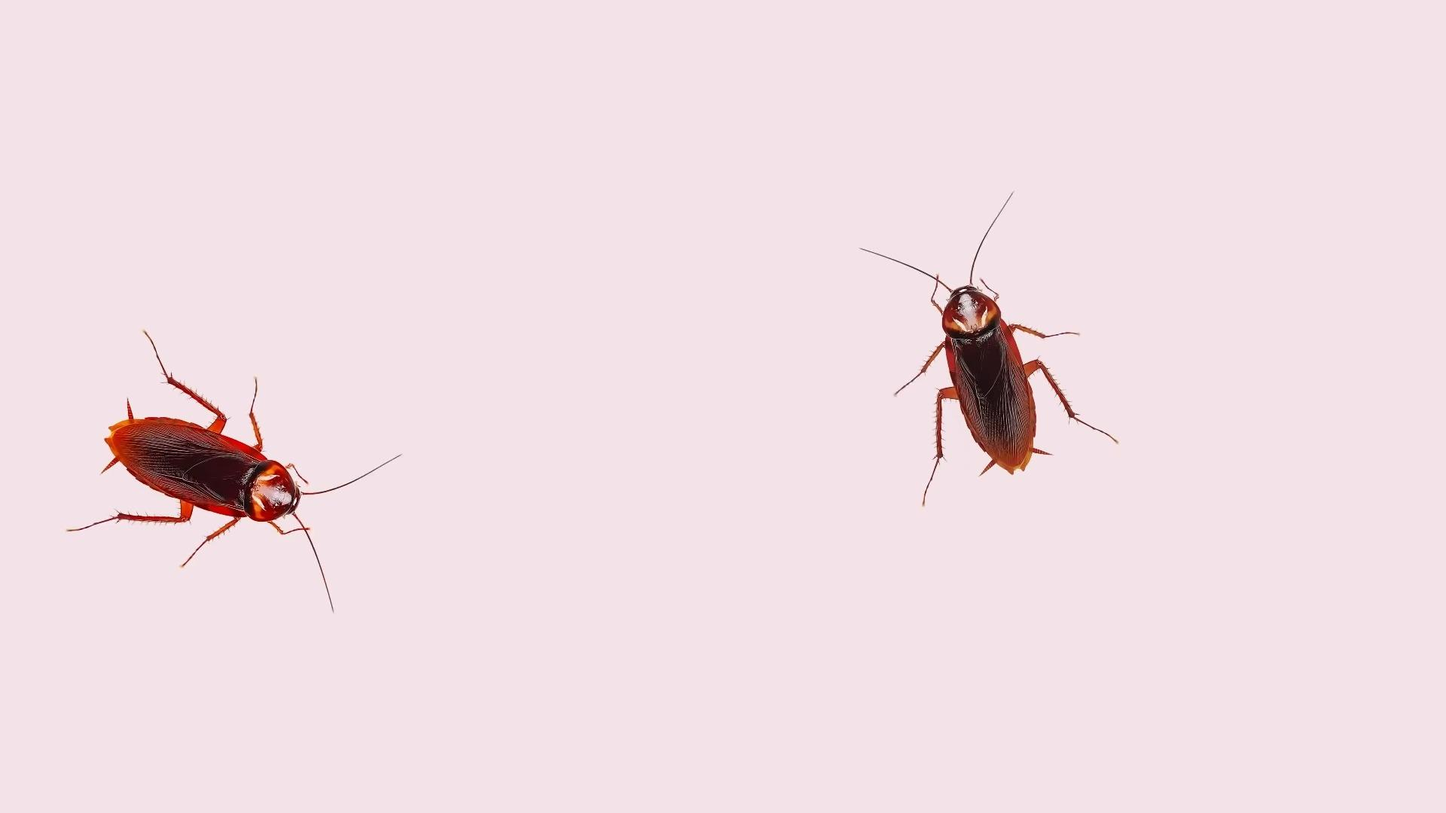cockroach: (76, 335, 376, 599), (868, 209, 1085, 494)
